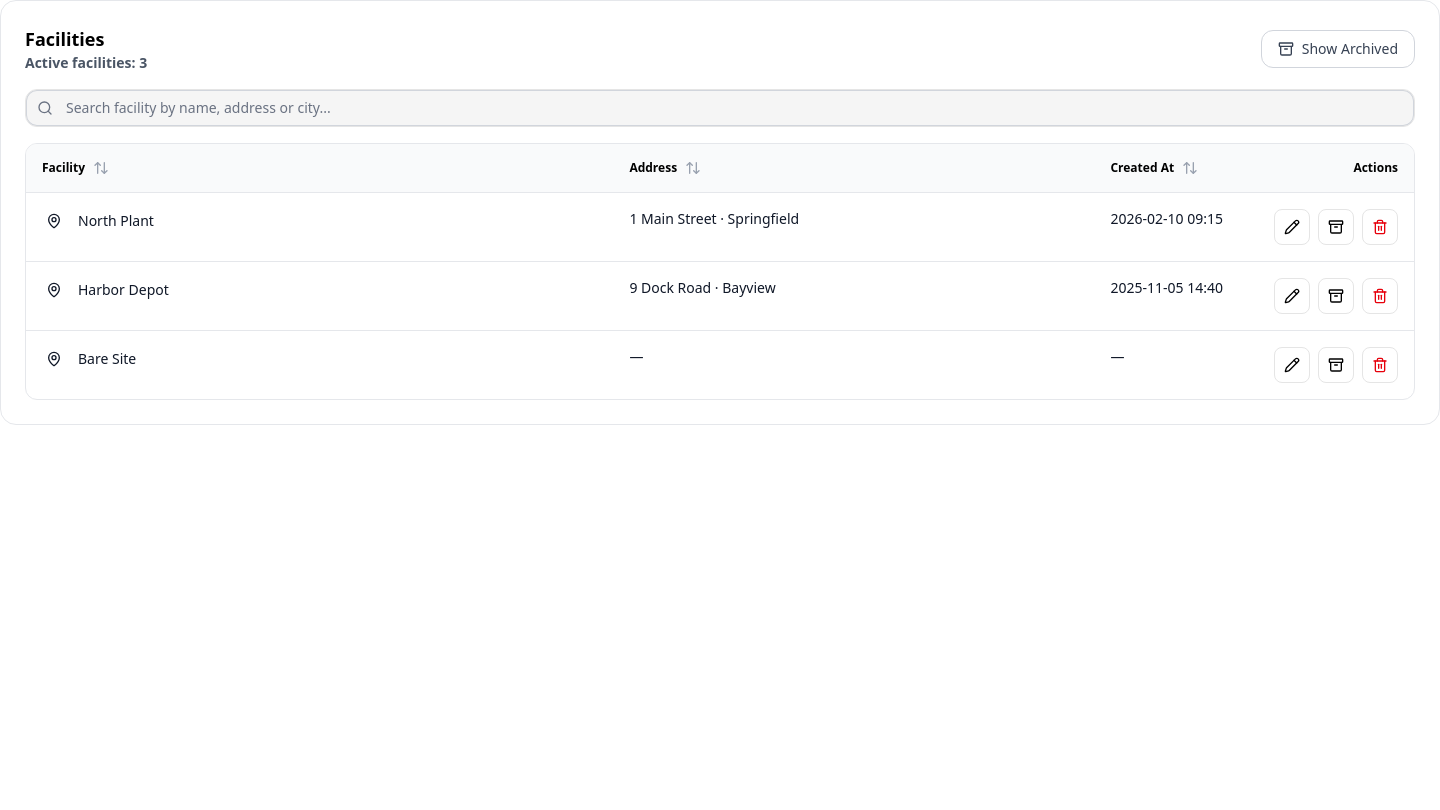
Test: FacilitiesContent › edit › submits the facility id together with the edited values
Step 1. Click the button named "Edit facility" in the row of "North Plant" → (1292, 226), box [1274,208,1310,244]
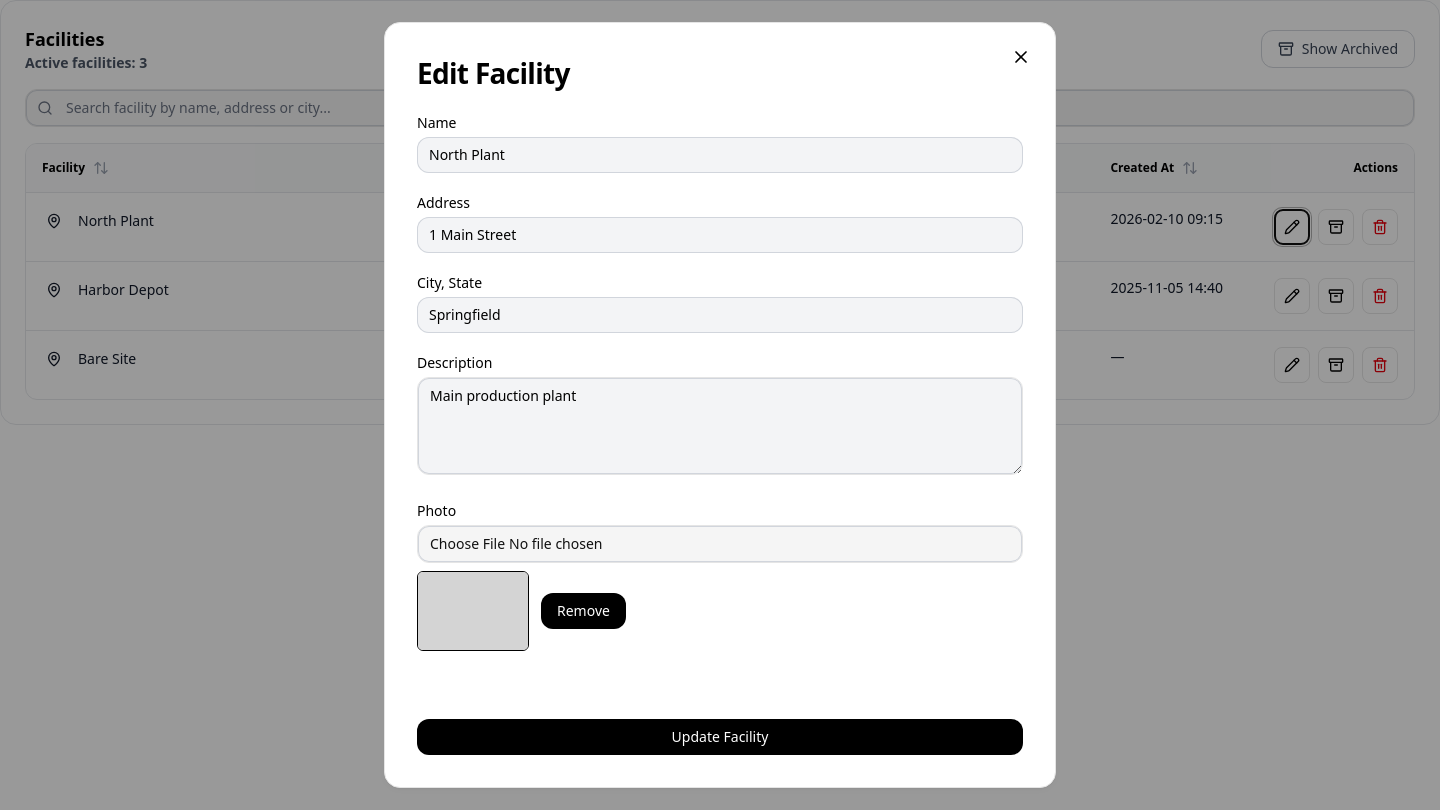
Step 2. Replace the text in the field labelled "Name" with "North Plant II" → (720, 155), box [417,137,1023,173]
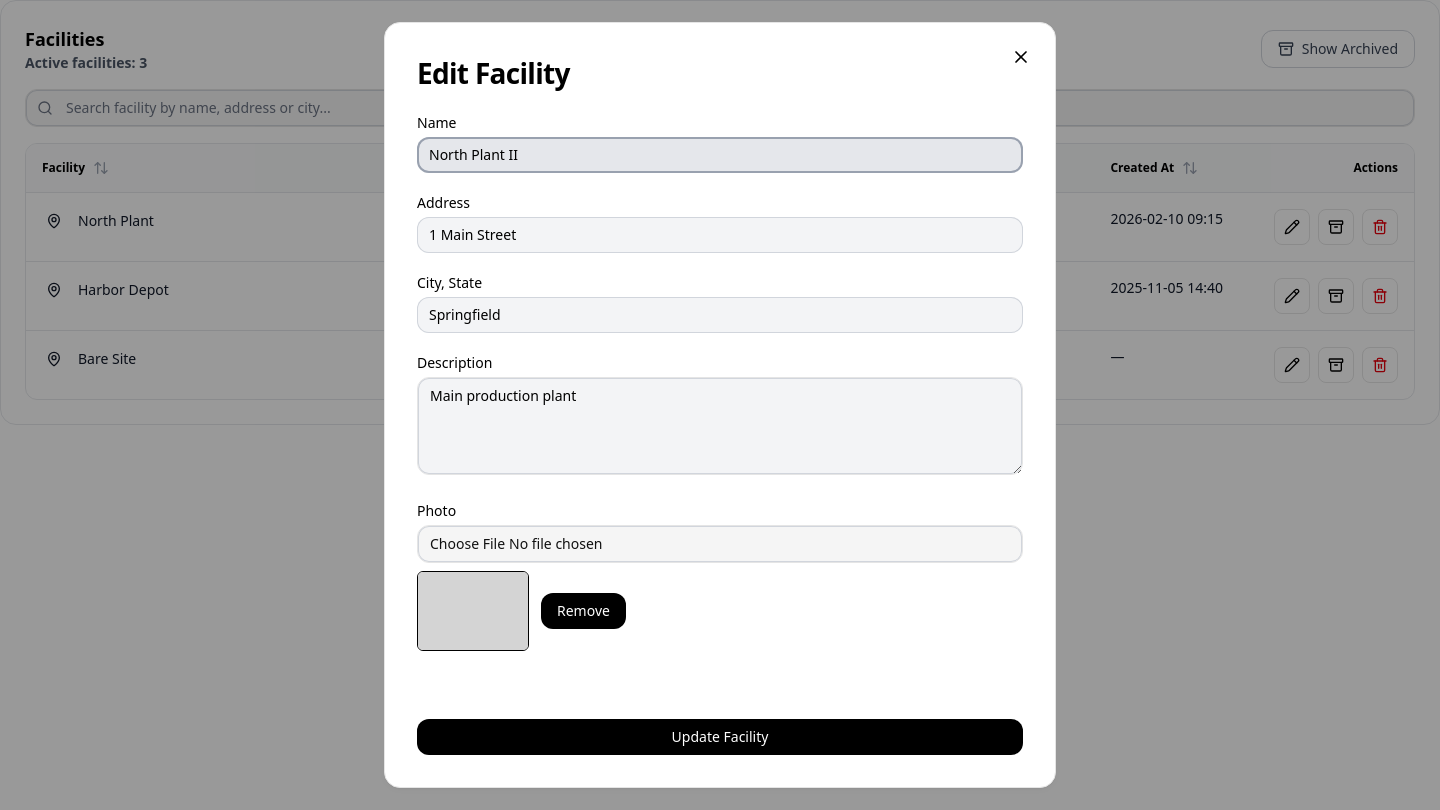
Step 3. Click the button "Update Facility" → (720, 737), box [417,719,1023,755]
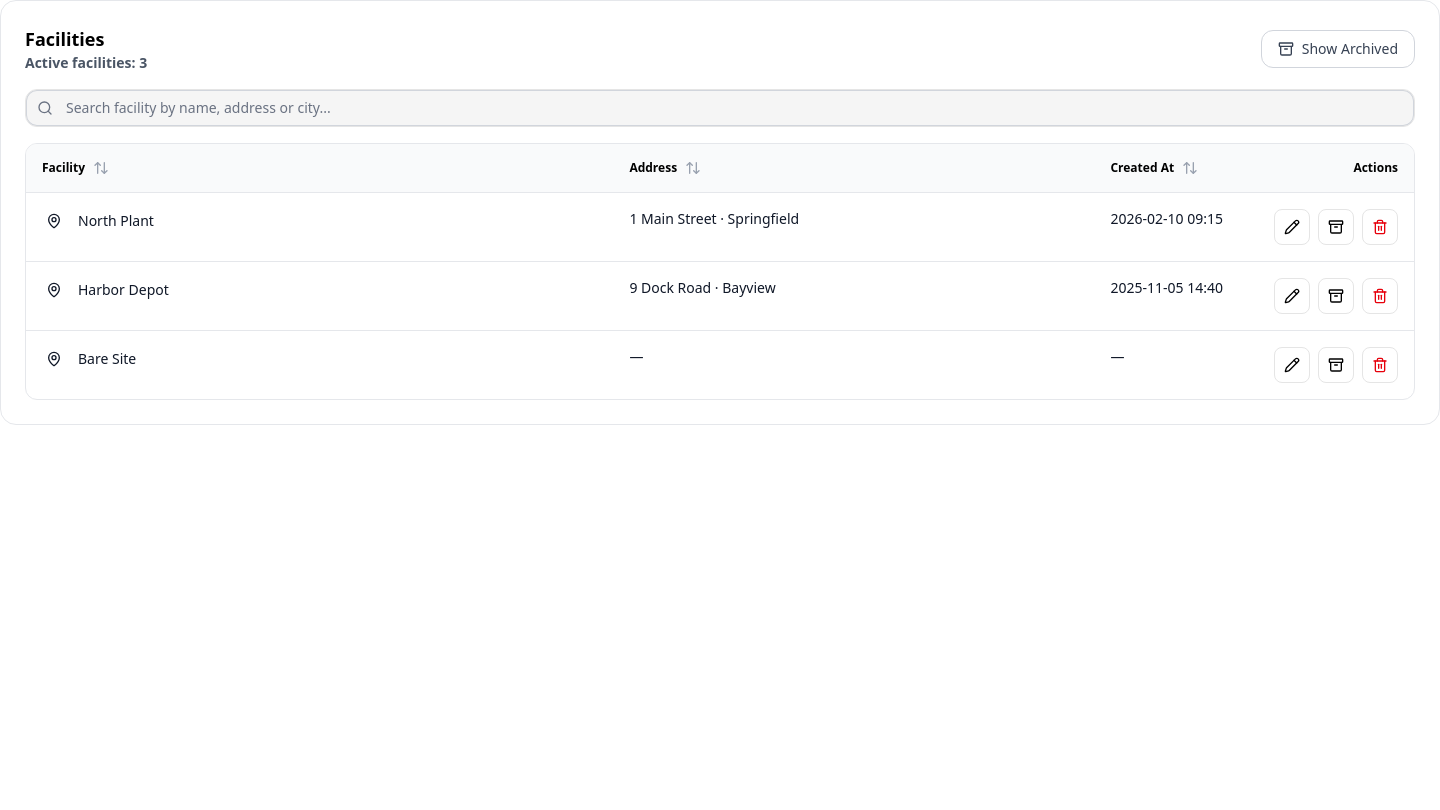
Result: the heading "Edit Facility" is gone
